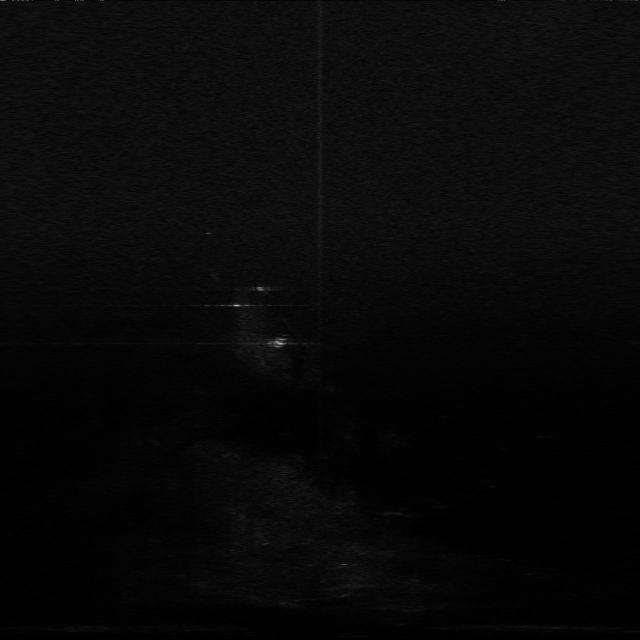rov: (267, 334, 289, 351)
